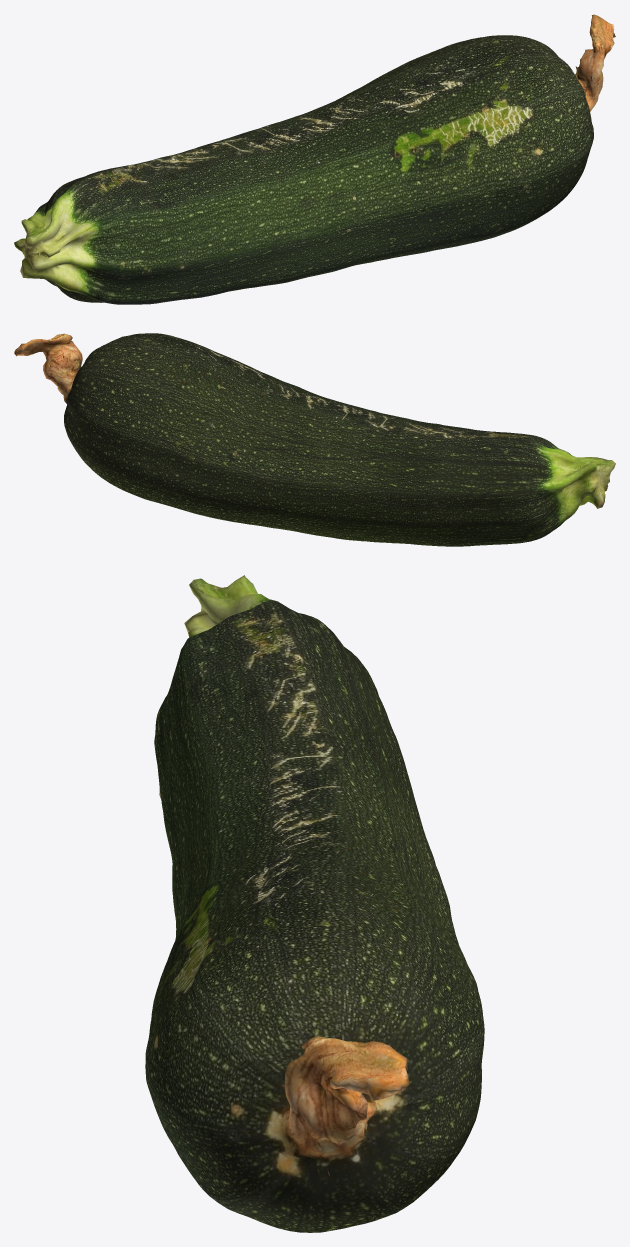
The model's file is Zucchini_SF.obj.
3 renders of one model, top to bottom at view 1: azimuth 30°, elevation 25°; view 2: azimuth 150°, elevation 25°; view 3: azimuth 270°, elevation 25°, orthographic. The views are drawn at different scales.
Visible parts, largest first — view 1: Zucchini_Kesakurpitsa_retopo; view 2: Zucchini_Kesakurpitsa_retopo; view 3: Zucchini_Kesakurpitsa_retopo.
Boxes of the visible parts, <box> form: Zucchini_Kesakurpitsa_retopo: <box>14,14,615,304</box>; Zucchini_Kesakurpitsa_retopo: <box>14,333,615,546</box>; Zucchini_Kesakurpitsa_retopo: <box>145,575,484,1232</box>.
Bounding box in the file's own units: 0.1834 × 0.049 × 0.0489.
1 material, 1 textured.
